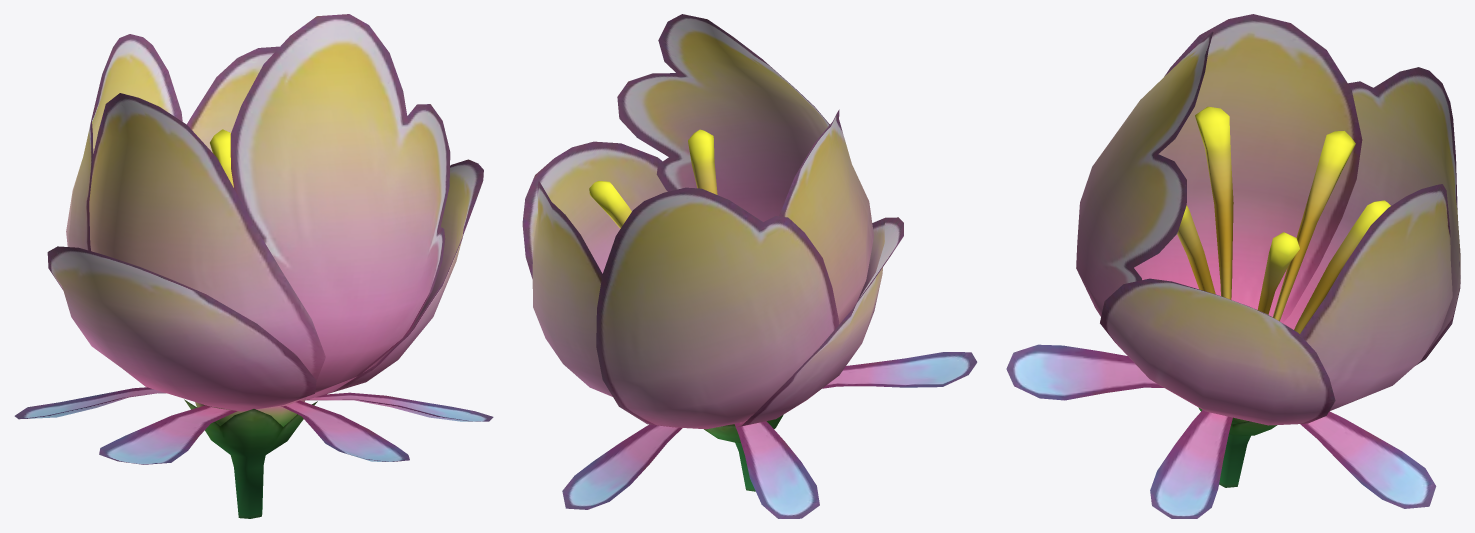
Rendered from pink_tulip_flower.glb.
The picture shows the model from 3 angles, left to right: view 1: azimuth 30°, elevation 25°; view 2: azimuth 150°, elevation 25°; view 3: azimuth 270°, elevation 25°; orthographic projection. The views are drawn at different scales.
Parts seen in each view (by area): view 1: AvatarItem_PlayerGirl_Tulip_AvatarItem_PlayerGirl_Tulip_Mat_; view 2: AvatarItem_PlayerGirl_Tulip_AvatarItem_PlayerGirl_Tulip_Mat_; view 3: AvatarItem_PlayerGirl_Tulip_AvatarItem_PlayerGirl_Tulip_Mat_.
Part boxes in pixels (bbox=[...]): AvatarItem_PlayerGirl_Tulip_AvatarItem_PlayerGirl_Tulip_Mat_: bbox=[14, 14, 493, 518]; AvatarItem_PlayerGirl_Tulip_AvatarItem_PlayerGirl_Tulip_Mat_: bbox=[522, 14, 977, 518]; AvatarItem_PlayerGirl_Tulip_AvatarItem_PlayerGirl_Tulip_Mat_: bbox=[1006, 14, 1460, 518].
Size of the model in its own units: 0.0745 by 0.0831 by 0.0712.
1 material, 1 textured.
